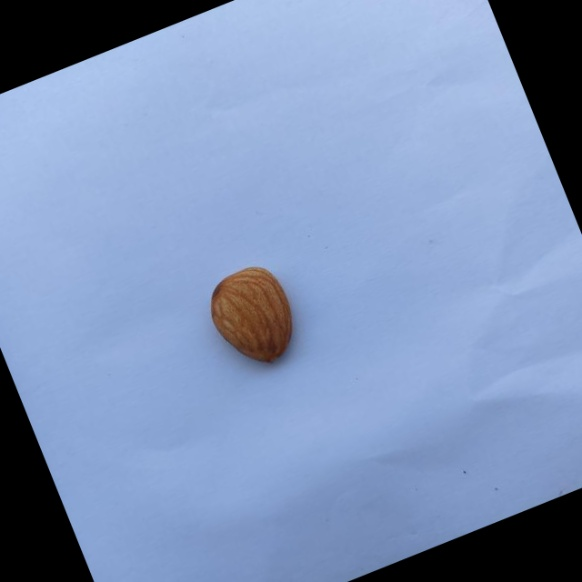grade1: (192, 249, 319, 386)
